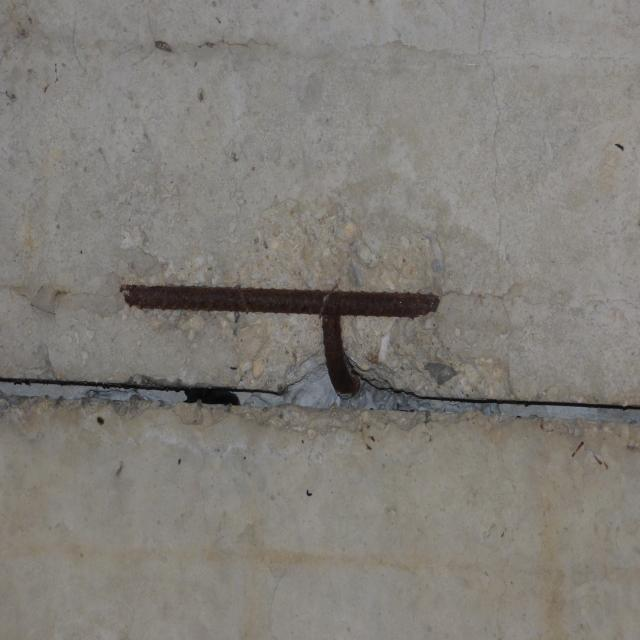corrosion: (3, 401, 640, 640), (111, 252, 472, 468)
